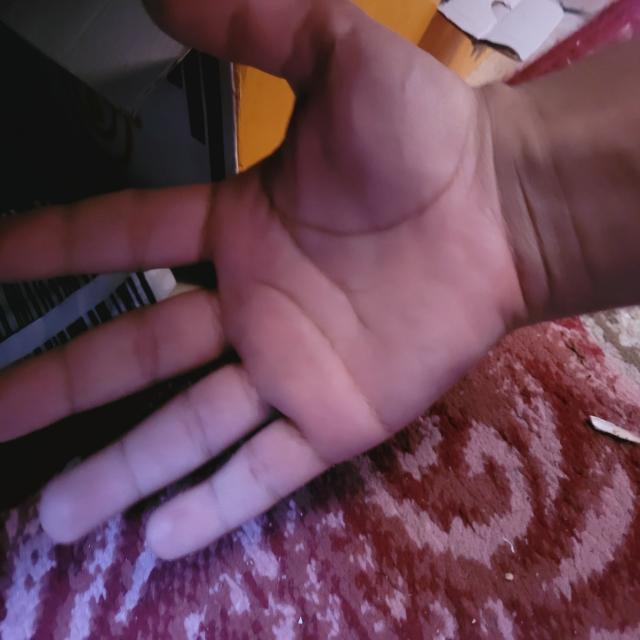Open Hand: (0, 0, 508, 565)
